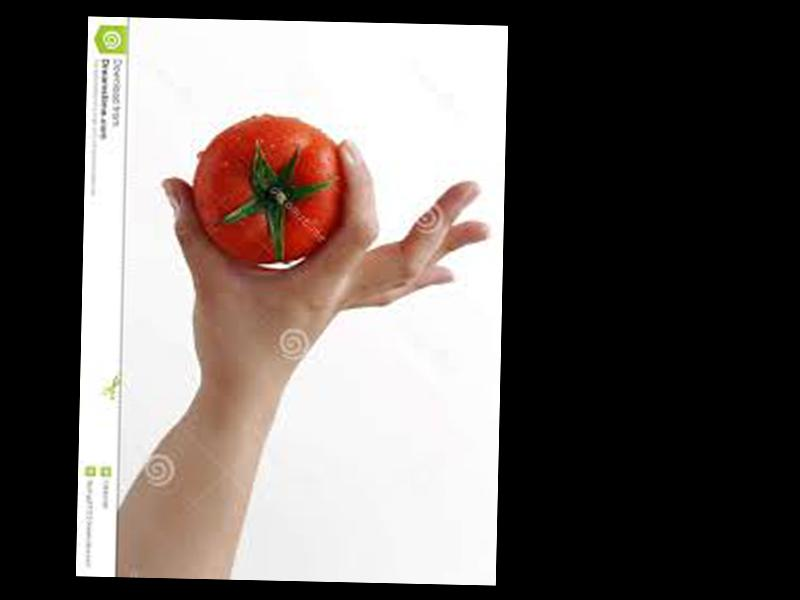Tomato: (191, 113, 348, 266)
